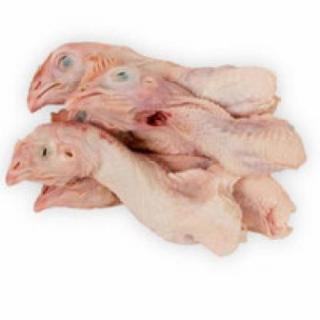Ayam: (8, 44, 305, 256)
